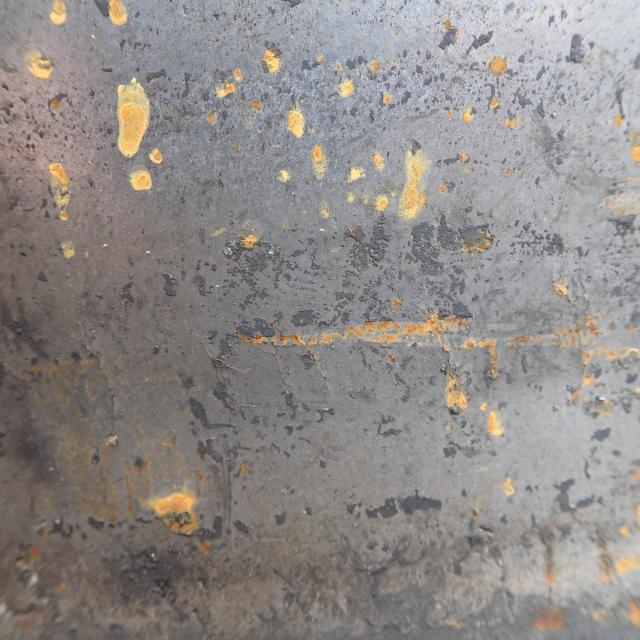Contact_Fatigue_Cracks: (82, 338, 117, 445), (435, 321, 470, 418), (209, 337, 243, 416), (302, 338, 334, 396), (269, 342, 294, 408)
